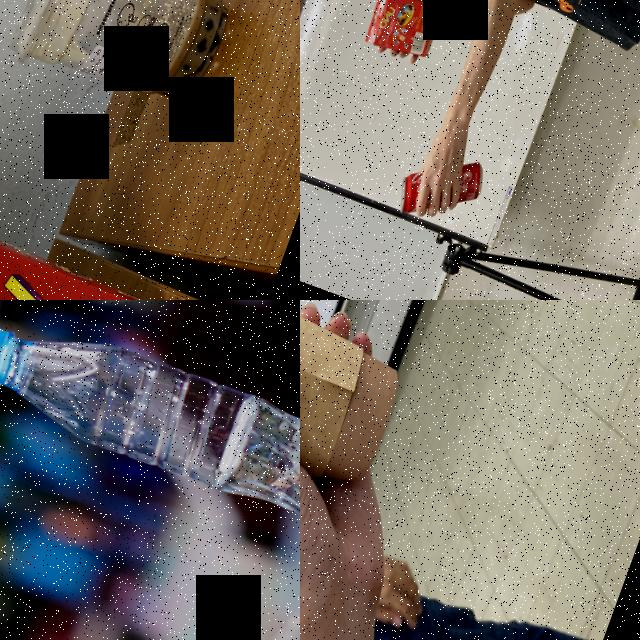bottle: (0, 300, 300, 576)
can: (392, 138, 491, 235)
cup: (0, 0, 252, 128), (300, 300, 416, 527)
